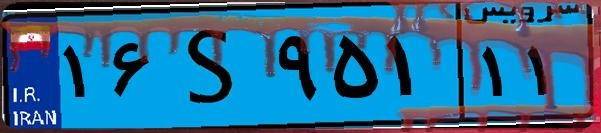1: (385, 28, 445, 110), (57, 26, 110, 100), (475, 38, 525, 113), (525, 38, 570, 115)
5: (330, 28, 385, 110)
6: (110, 28, 158, 98)
9: (270, 28, 330, 110)
S: (158, 12, 270, 120)
